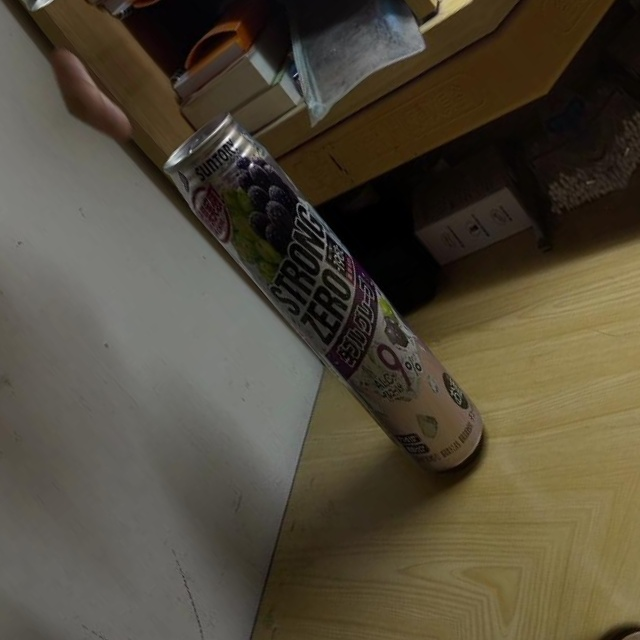Liquor: (151, 102, 506, 499)
